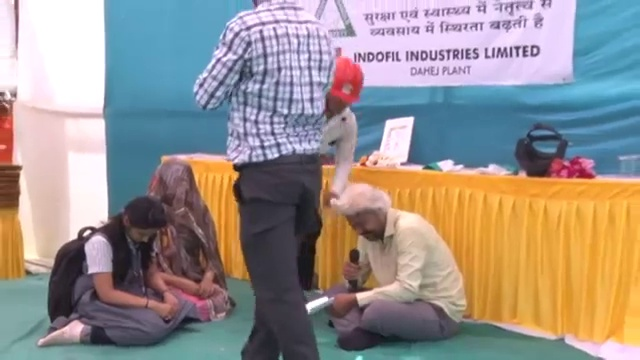helmet: (325, 62, 363, 104)
helmet_off: (335, 178, 395, 245), (151, 162, 200, 217), (116, 197, 165, 245)
helmet_on: (327, 64, 362, 117)
person: (195, 0, 333, 357), (39, 191, 192, 349), (329, 177, 467, 345), (289, 62, 363, 292), (142, 154, 229, 325)
